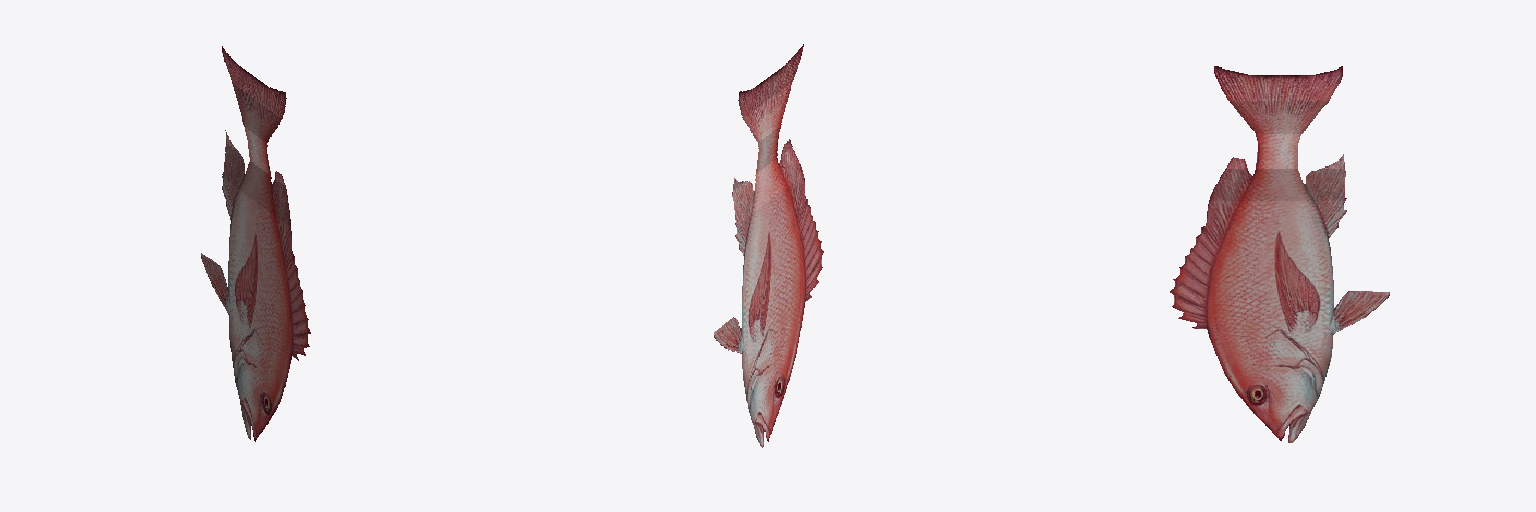
3 views of the same model, side by side, from view 1: azimuth 30°, elevation 25°; view 2: azimuth 150°, elevation 25°; view 3: azimuth 270°, elevation 25° (orthographic).
Bounding box in the file's own units: 0.0332 × 2 × 1.06.
1 materials, 1 textured.